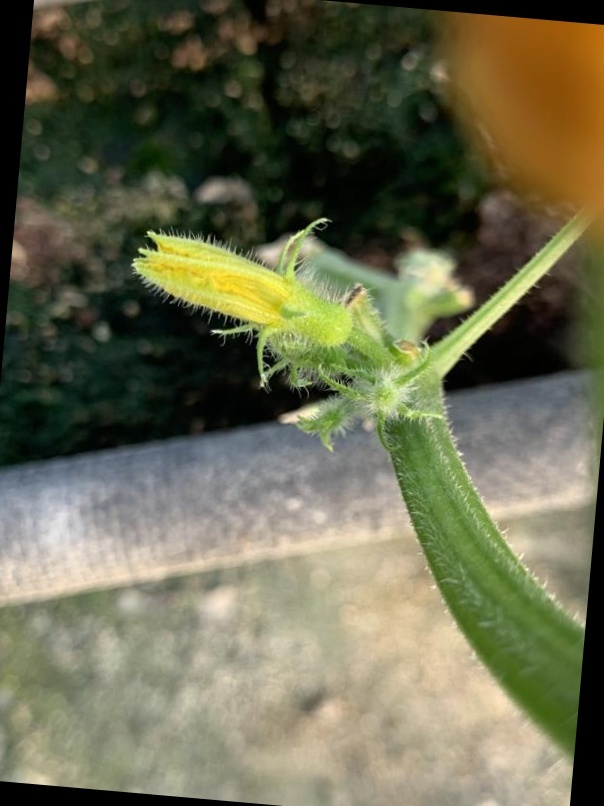bud: (129, 219, 385, 353)
